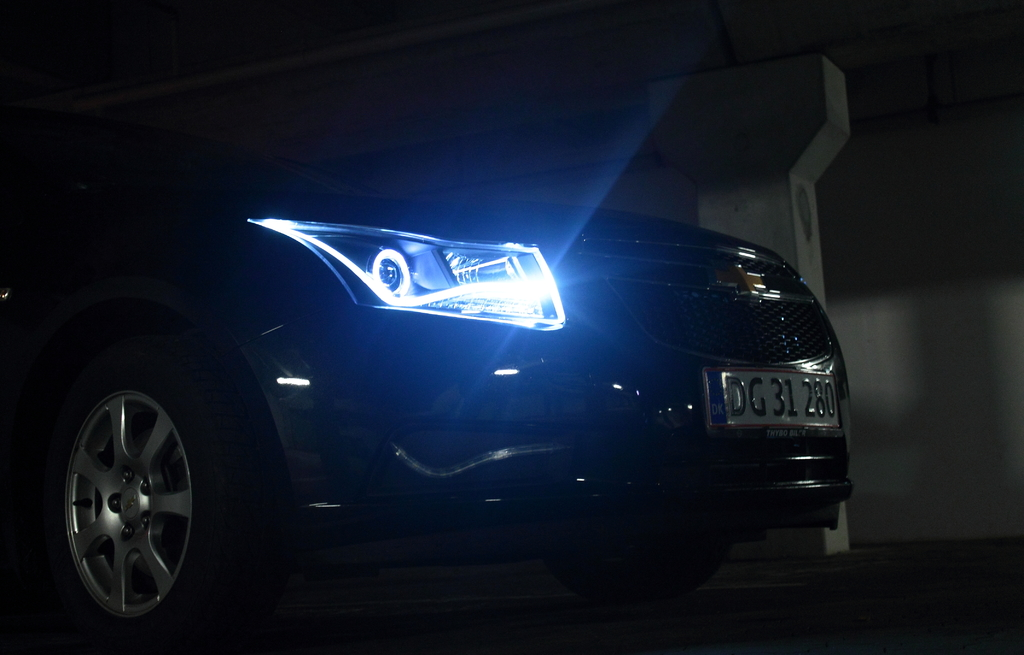Car: (0, 144, 858, 654)
